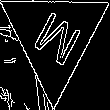M_SW: (26, 4, 83, 71)
